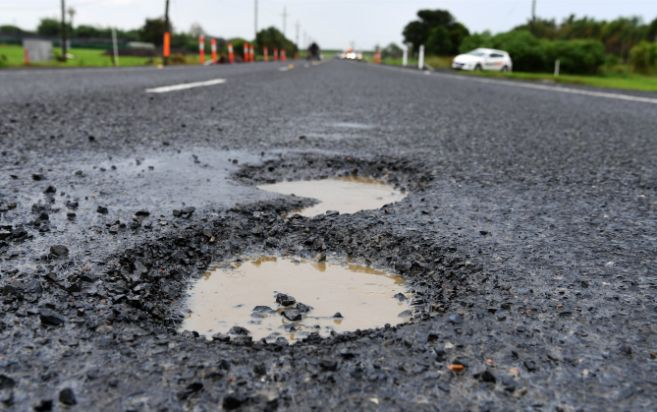pothole: (107, 223, 457, 347), (233, 150, 433, 221)
